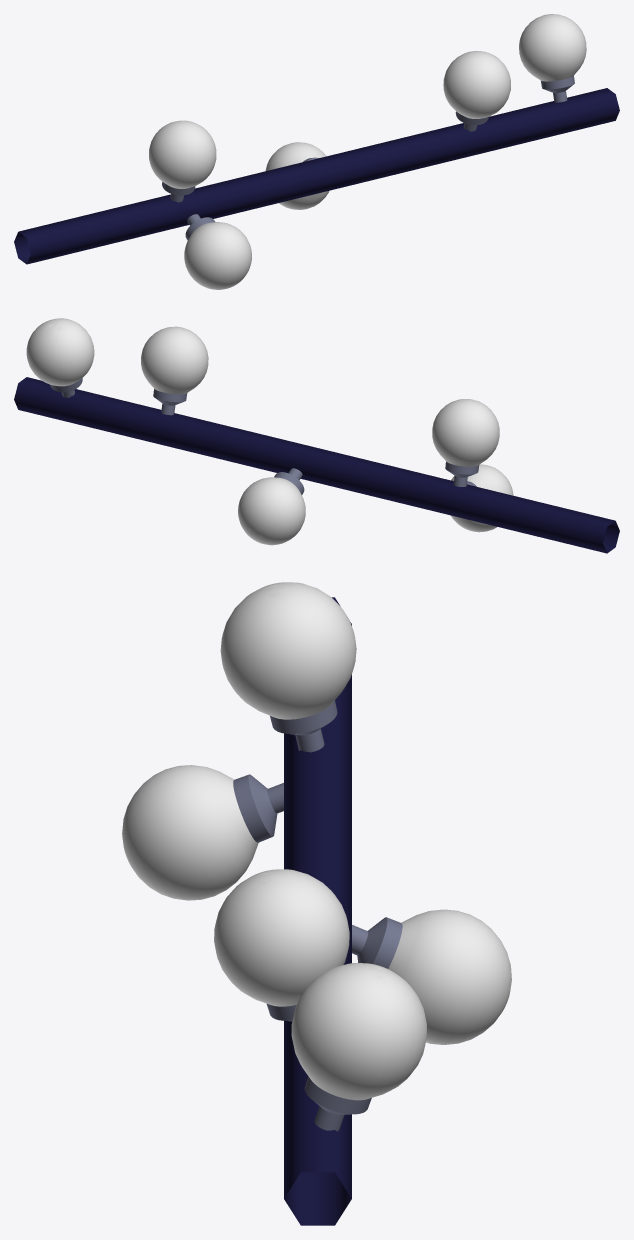
Rendered from Guirlande doite.001.fbx.
3 views of the same model, one above another, from view 1: azimuth 30°, elevation 25°; view 2: azimuth 150°, elevation 25°; view 3: azimuth 270°, elevation 25° (orthographic). The views are drawn at different scales.
Visible parts, largest first — view 1: BézierCurve; view 2: BézierCurve; view 3: BézierCurve.
Part boxes in pixels (x1,y1,x2,y2): BézierCurve: (14,14,619,289); BézierCurve: (14,318,619,553); BézierCurve: (122,582,511,1225).
Bounding box in the file's own units: 57.32 × 200 × 48.52.
